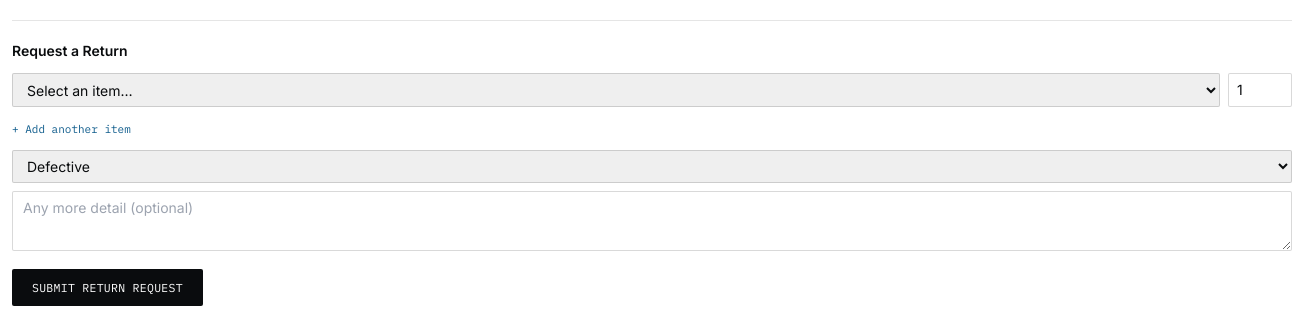
it: RequestReturnForm › shows a success message and hides the form once submission succeeds
Select "Copper Pipe 15mm (qty 3)" in the 1st dropdown at (616, 90), box [12,73,1220,107]
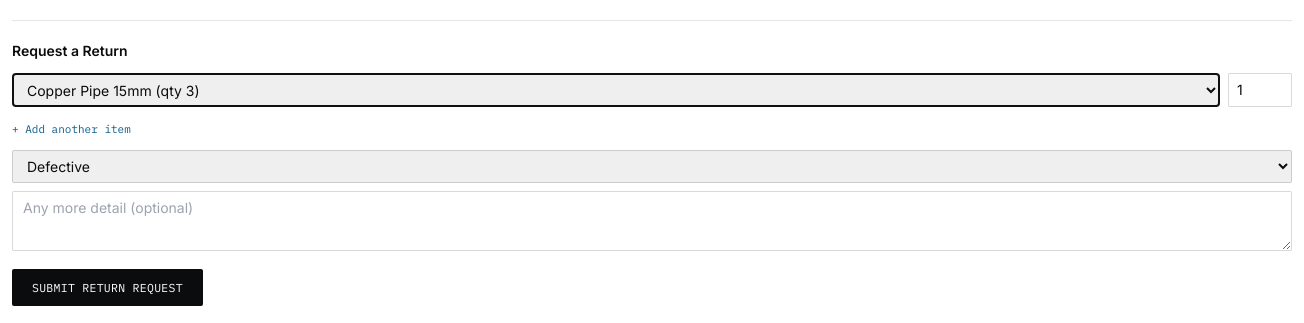
Click the button "Submit Return Request" at (107, 287), box [12,268,203,306]
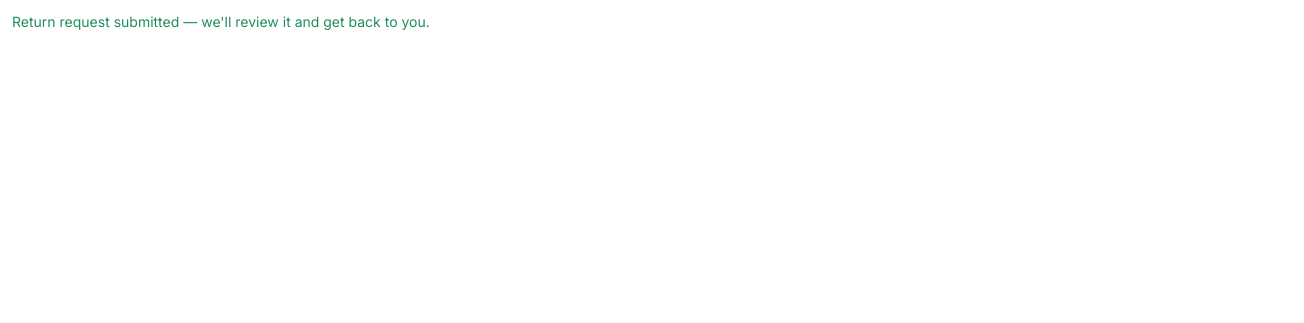
Now the text "Return request submitted" is shown, box [12,13,430,30]
Now the button "Submit Return Request" is gone
